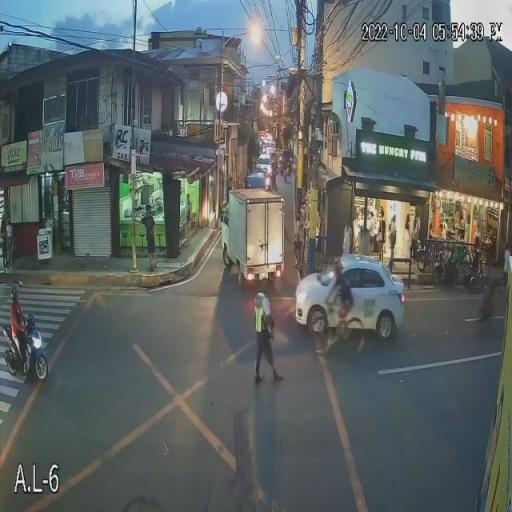helmet: (11, 283, 20, 296)
motorcycle: (0, 312, 51, 382)
rider: (328, 262, 354, 328), (10, 284, 32, 355)
